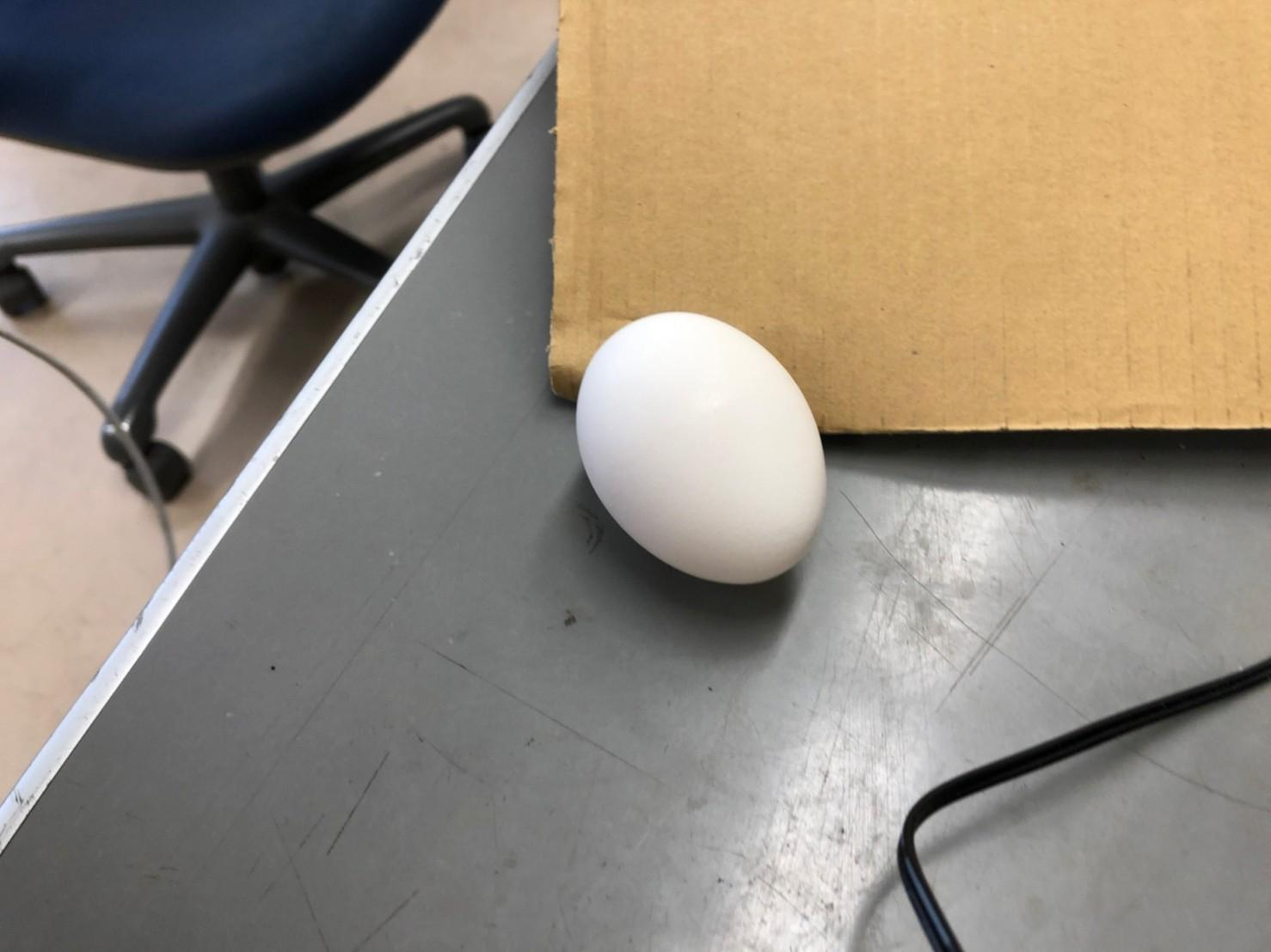egg: (570, 302, 834, 594)
